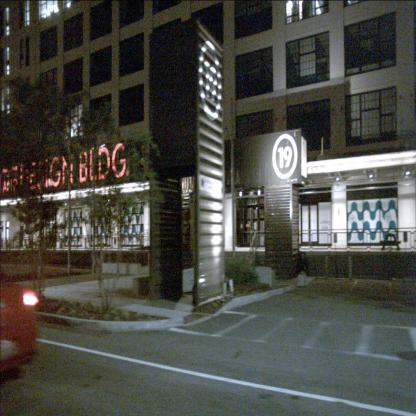vehicle-car: (0, 272, 38, 378)
